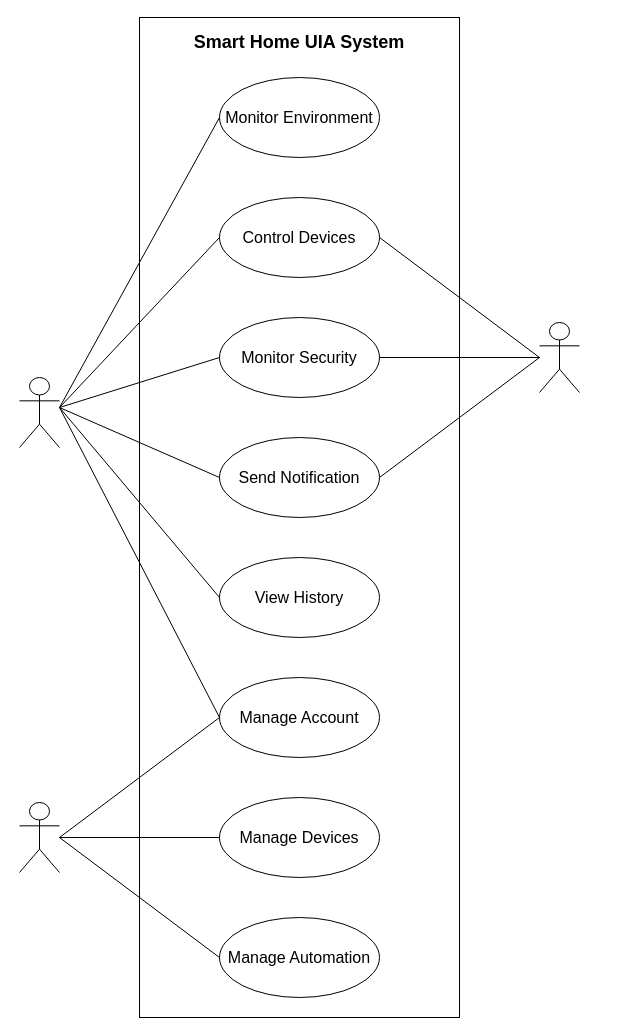
The diagram is 631 pixels wide and 1035 high, and some of its shapes have lost their labels. The centre of each missing label's shape, as x and y in pixels:
Admin: (39,837)
Sensor System: (559,357)
User: (39,412)
